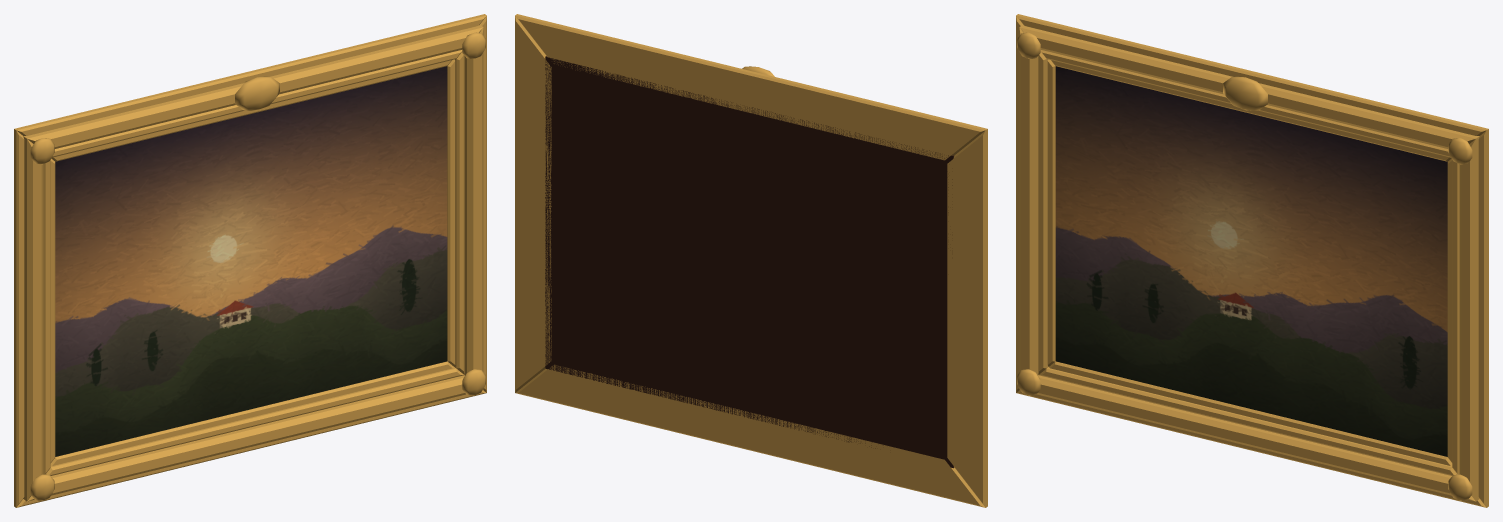
Rendered from picture.glb.
3 renders of one model, left to right at view 1: azimuth 30°, elevation 25°; view 2: azimuth 150°, elevation 25°; view 3: azimuth 330°, elevation 25°, orthographic.
Visible parts, largest first — view 1: Picture; view 2: Picture; view 3: Picture.
Boxes of the visible parts, x1,y1,x2,y2 form: Picture: (14, 14, 486, 507); Picture: (515, 14, 987, 507); Picture: (1016, 14, 1488, 507).
Bounding box in the file's own units: 0.6 × 0.46 × 0.0296.
3 materials, 1 textured.
